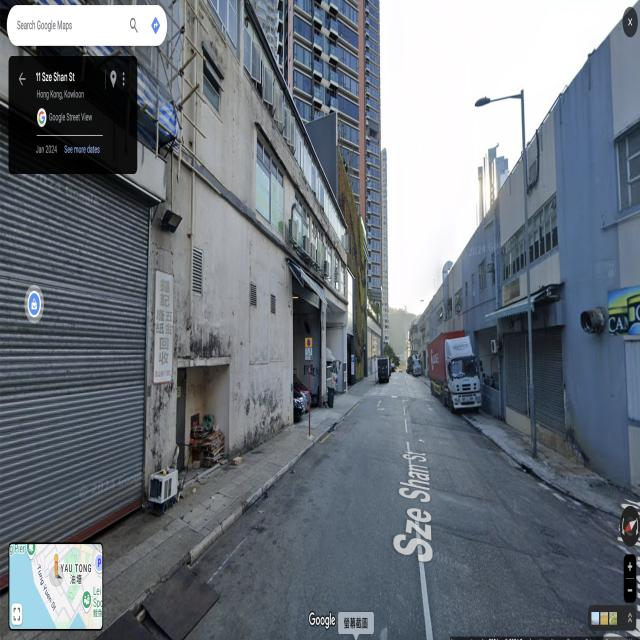Order-Sign: (304, 337, 312, 361)
